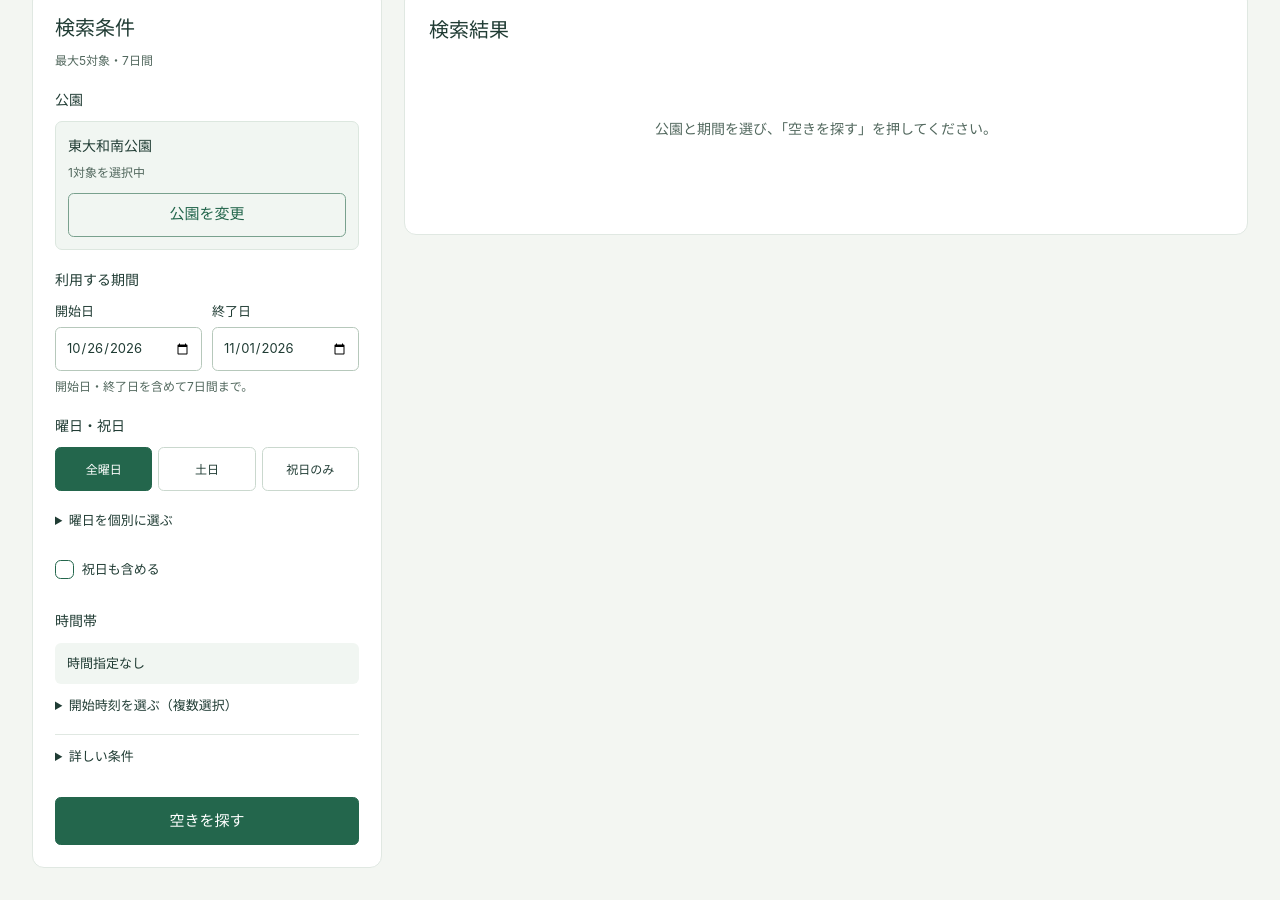
it: API search and asynchronous updates › suppresses double updates, polls progress and refreshes after terminal failure
(page scrolled)
Submit the form, box top-left (55, 88), bottom-right (359, 845)
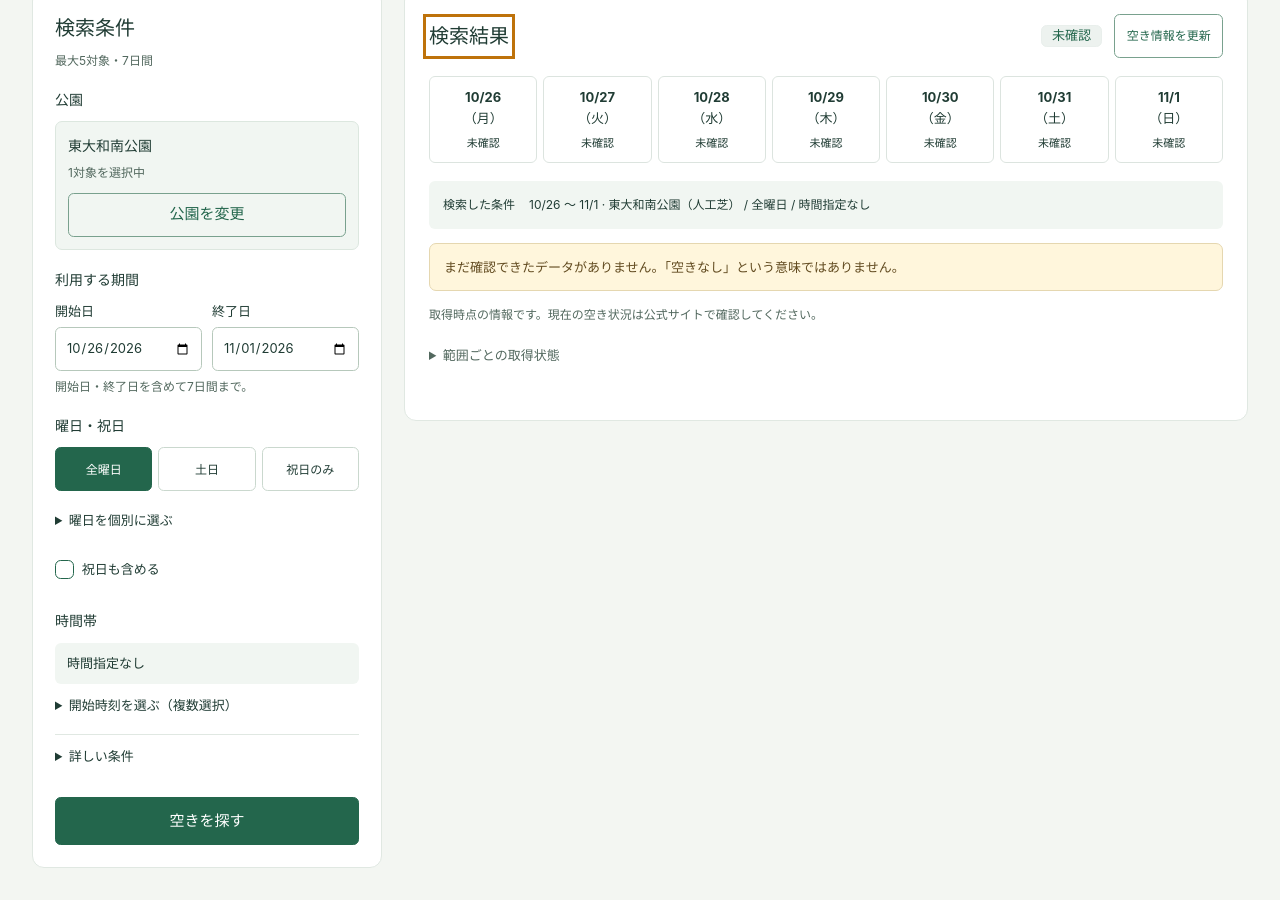
Click the button "空き情報を更新" at (1169, 36), box top-left (1114, 14), bottom-right (1223, 58)
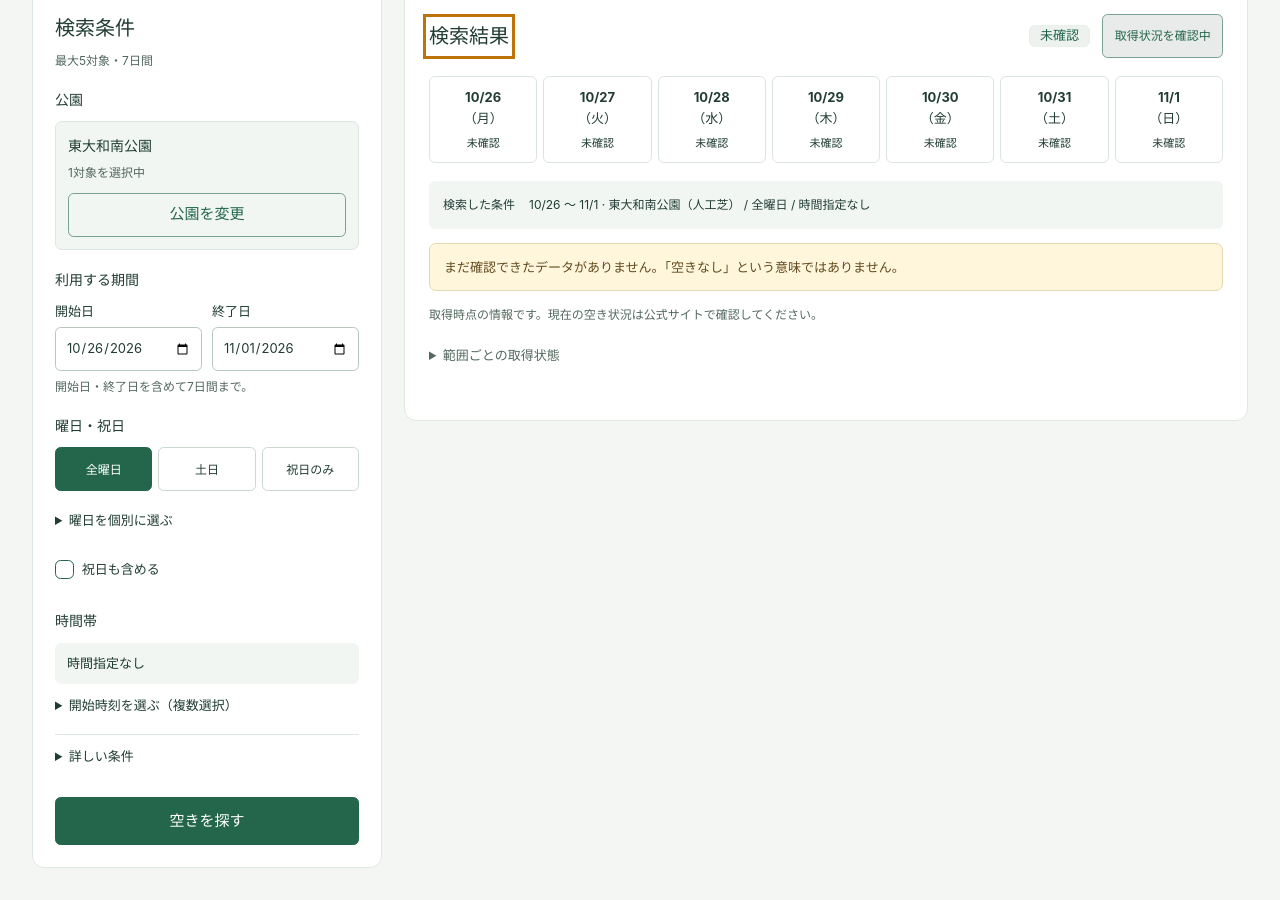
Click the button "取得状況を確認中" at (1163, 36), box top-left (1102, 14), bottom-right (1223, 58)
Wait 9000 ms
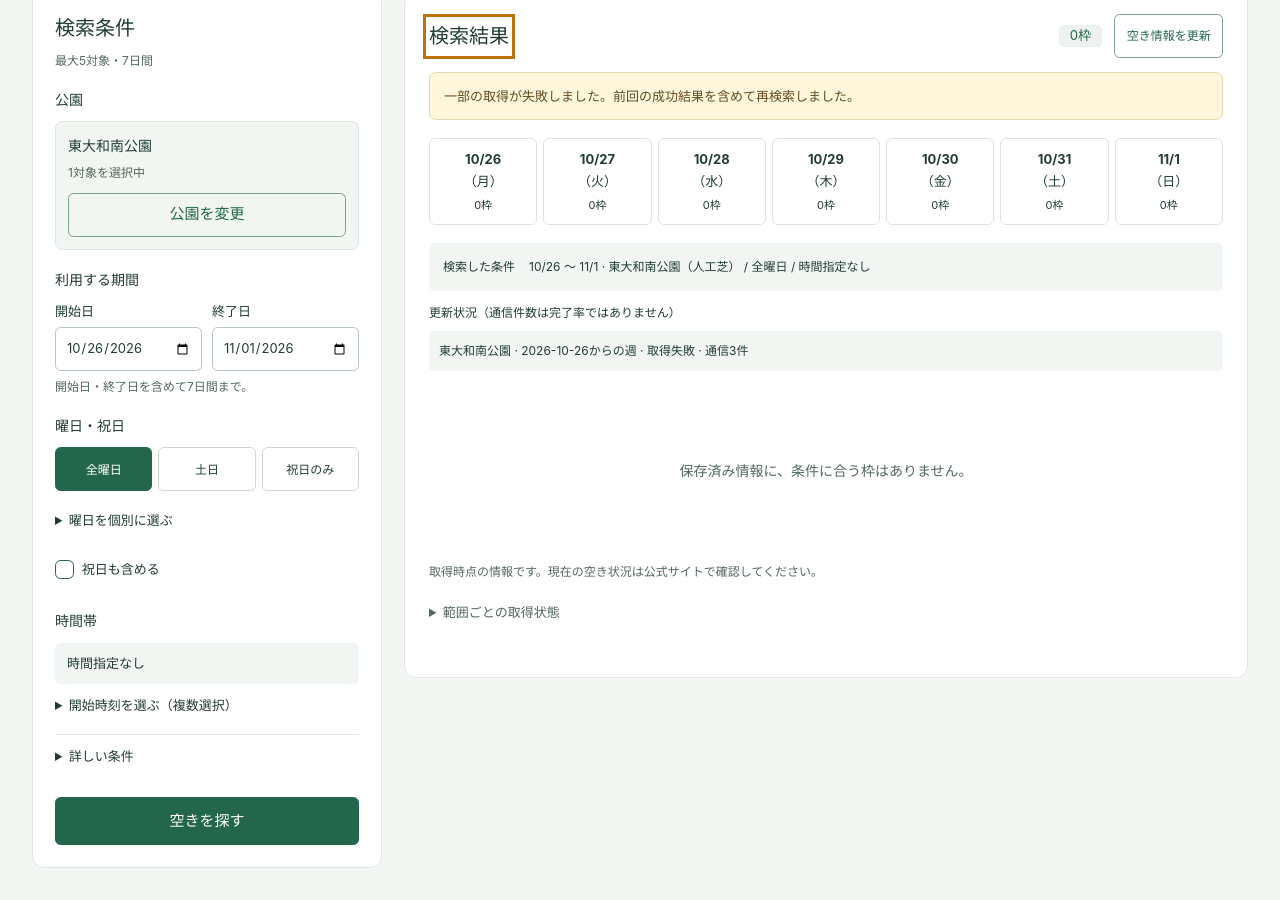
Check: the text "通信3件" is shown, box top-left (439, 343), bottom-right (748, 358)
Check: the text "一部の取得が失敗" is shown, box top-left (444, 88), bottom-right (860, 104)
Check: the text "取得失敗" is shown, box top-left (439, 343), bottom-right (748, 358)
